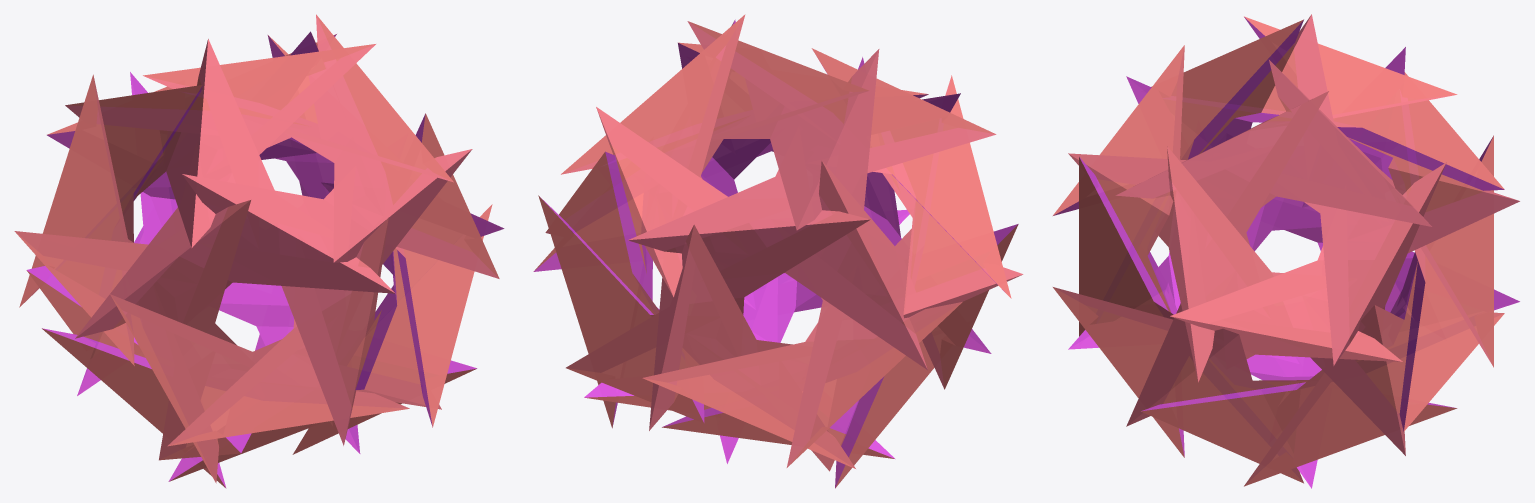
The model's file is RegularMap_G.obj.
The picture shows the model from 3 angles, left to right: view 1: azimuth 30°, elevation 25°; view 2: azimuth 150°, elevation 25°; view 3: azimuth 270°, elevation 25°; orthographic projection. The views are drawn at different scales.
Size of the model in its own units: 9.92 by 9.92 by 9.92.
